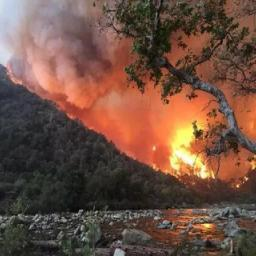Heavy smoke: (0, 0, 256, 115)
Large fire: (86, 70, 256, 187)
